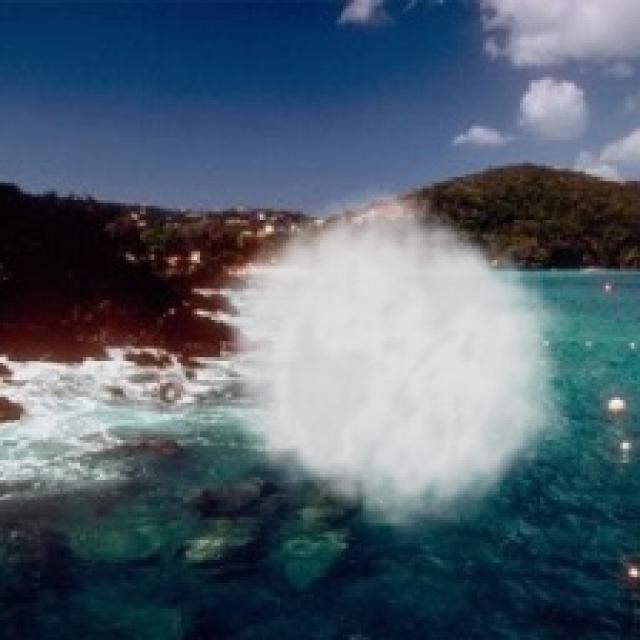Smoke: (206, 180, 574, 546)
